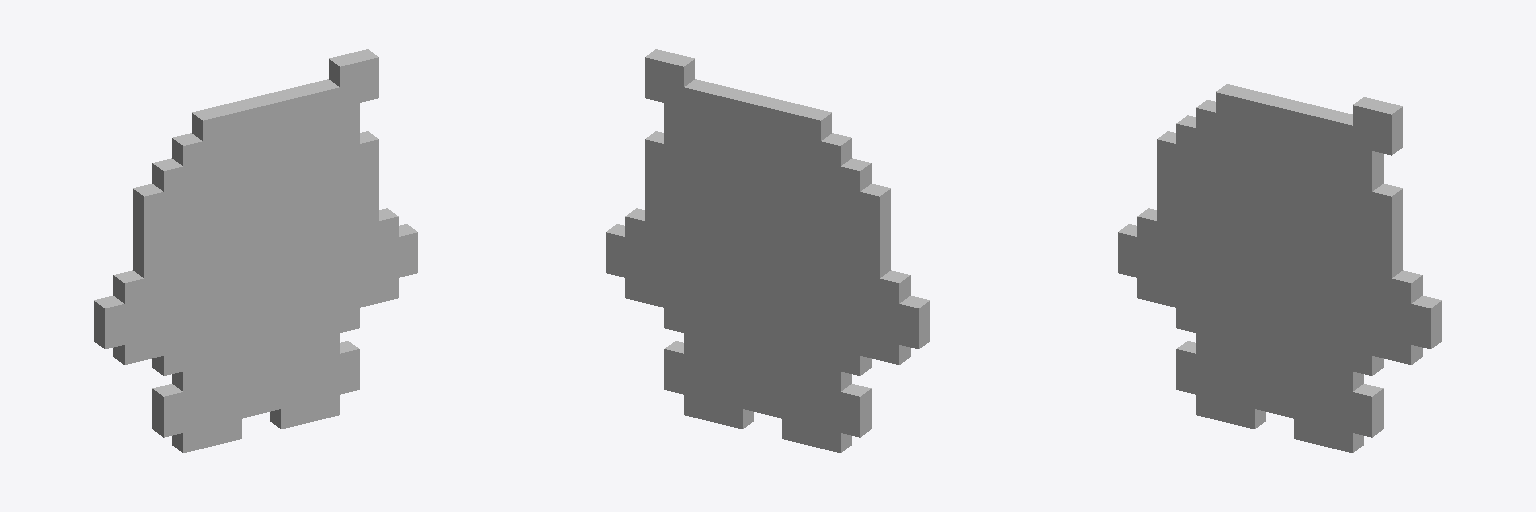
Rendered from girl walk 1.obj.
The picture shows the model from 3 angles: view 1: azimuth 30°, elevation 25°; view 2: azimuth 150°, elevation 25°; view 3: azimuth 330°, elevation 25°; orthographic projection.
Visible parts, largest first — view 1: object 1; view 2: object 1; view 3: object 1.
Boxes of the visible parts, <box> form: object 1: <box>94,49,417,452</box>; object 1: <box>606,49,929,452</box>; object 1: <box>1118,84,1441,452</box>.
Size of the model in its own units: 1.6 by 1.7 by 0.1.